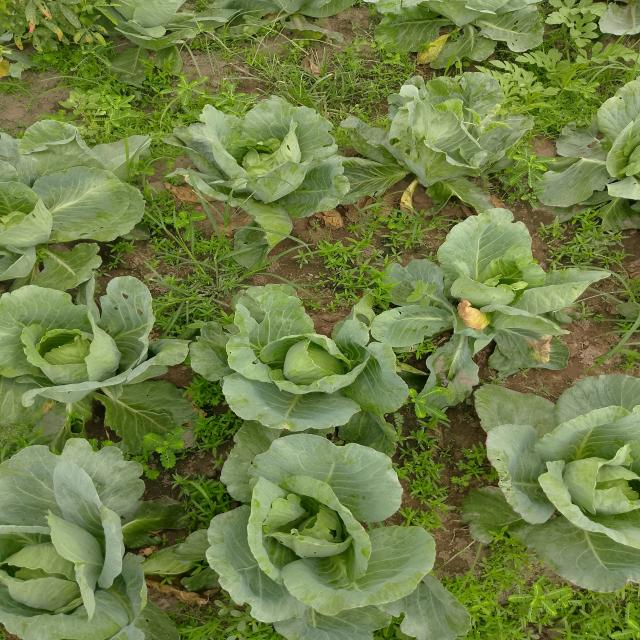Cabbage: (188, 432, 492, 632), (0, 423, 204, 640), (454, 359, 640, 584), (360, 199, 571, 381), (165, 289, 392, 431), (0, 258, 196, 418), (0, 114, 188, 262), (167, 109, 360, 228), (379, 58, 538, 191), (534, 77, 638, 205), (386, 1, 538, 44), (91, 0, 227, 42)
